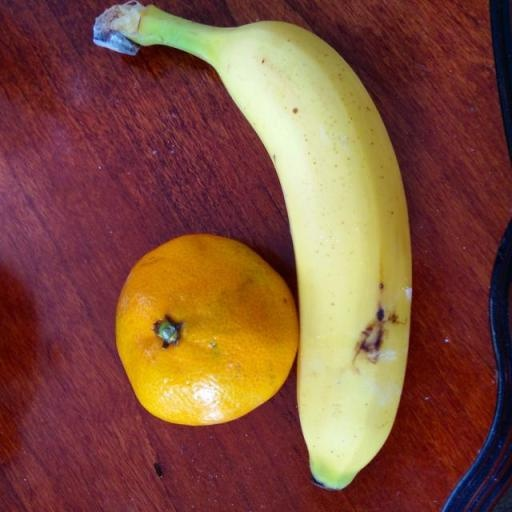fruit: (96, 3, 411, 488), (116, 235, 298, 424)
